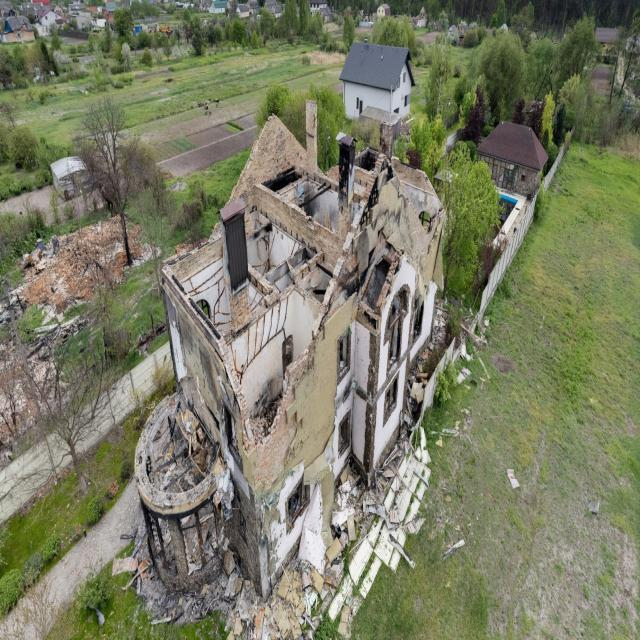broken_window: (222, 205, 249, 295)
building: (136, 98, 448, 600), (339, 38, 415, 126), (475, 119, 549, 200)
